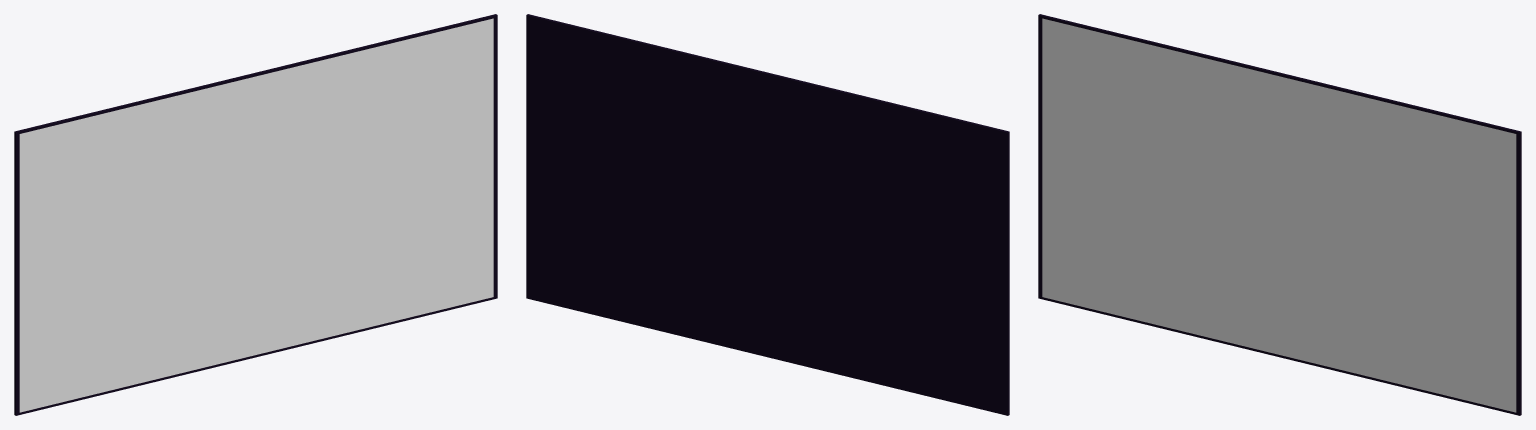
The model's file is monitor.glb.
3 renders of one model, left to right at view 1: azimuth 30°, elevation 25°; view 2: azimuth 150°, elevation 25°; view 3: azimuth 330°, elevation 25°, orthographic.
Visible parts, largest first — view 1: Cube; view 2: Cube; view 3: Cube.
Part boxes in pixels (box(x1,y1,x2,y2)): Cube: box(14, 14, 497, 415); Cube: box(526, 14, 1009, 415); Cube: box(1038, 14, 1521, 415).
Size of the model in its own units: 3.62 by 2.03 by 0.0203.
